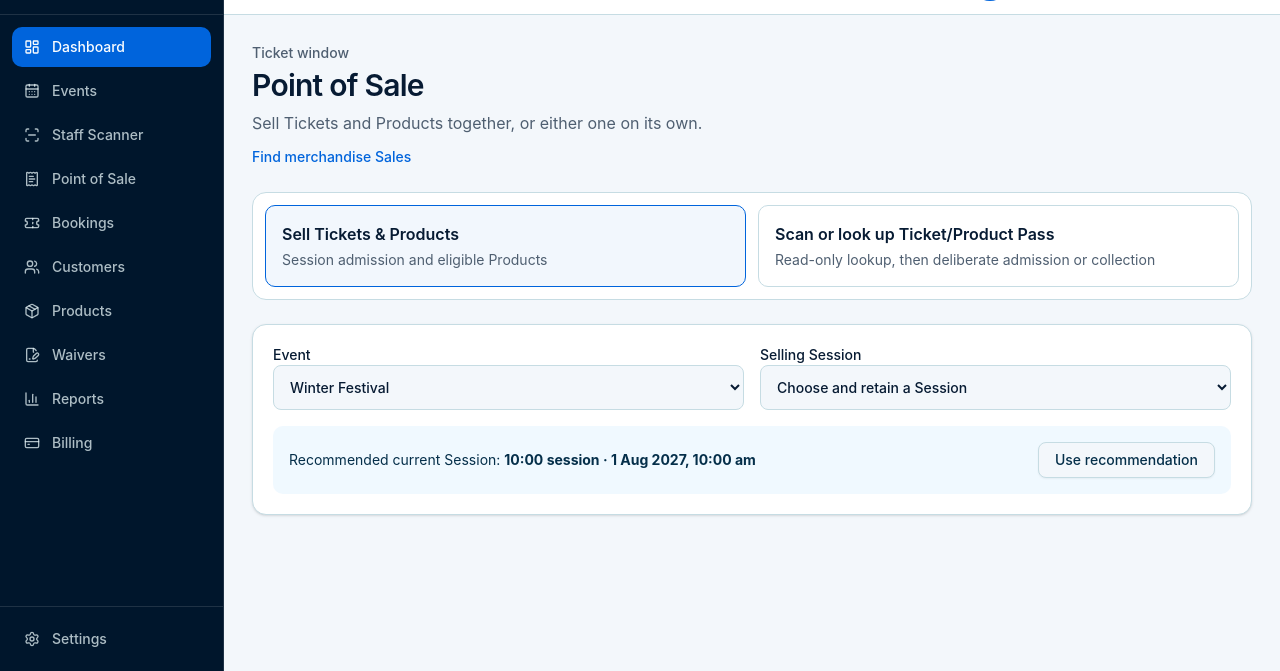
Test: PosPage › requires deliberate use of the recommended selling Session
Expected: the text "Recommended current Session" is shown, left=289, top=451, right=500, bottom=468
Expected: the text "Selling Session locked" is not shown
Click the button "Use recommendation". click: x=1126, y=460
box: left=1038, top=442, right=1215, bottom=478
(page scrolled)
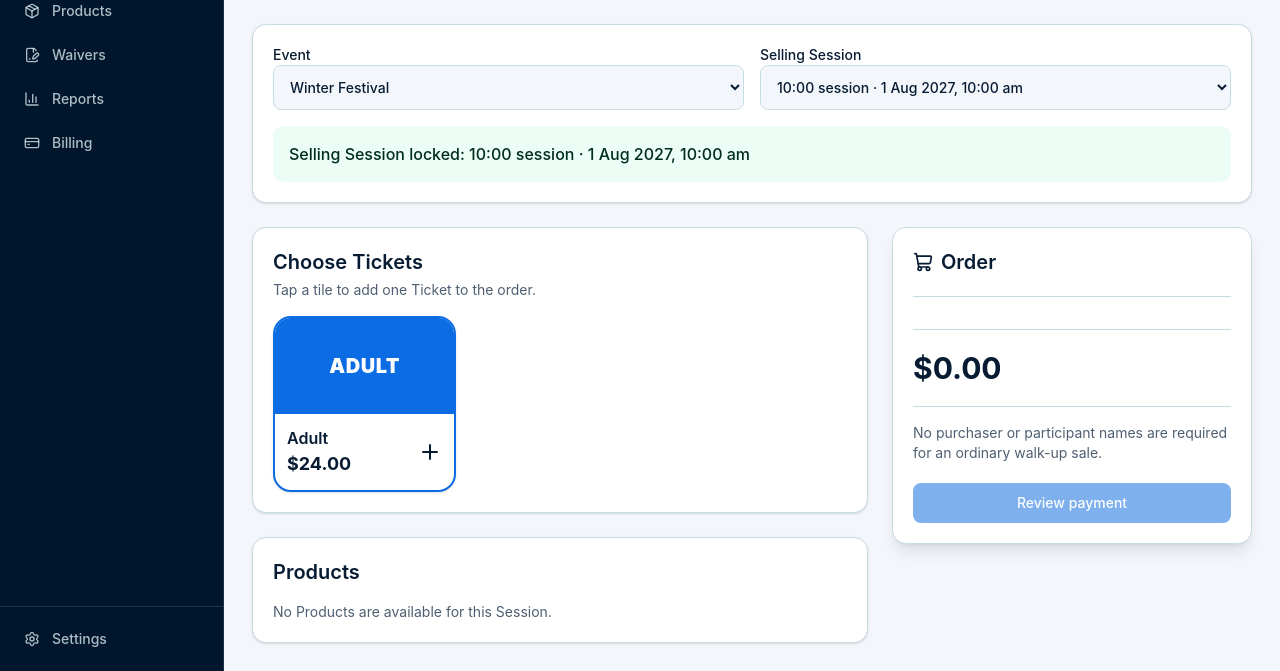
Result: the text "Selling Session locked: 10:00 session · 1 Aug 2027, 10:00 am" is shown at left=273, top=126, right=1231, bottom=182
Result: the button with aria-label "Add Ticket" is shown at left=273, top=316, right=456, bottom=492
